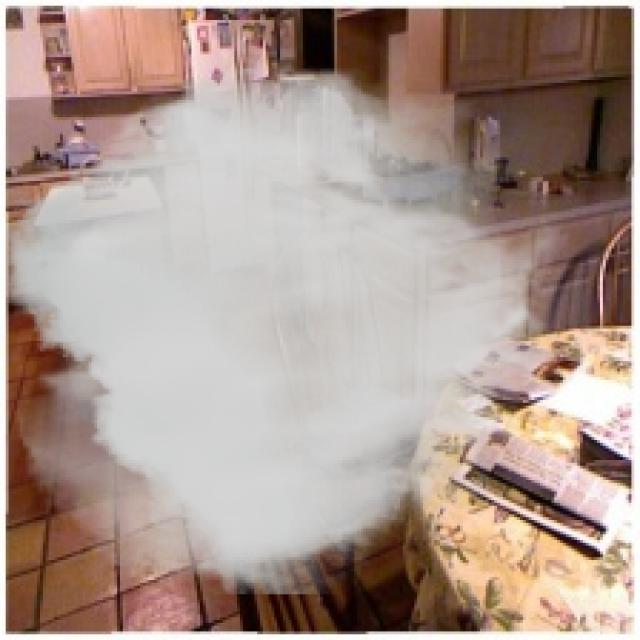smoke: (6, 60, 571, 594)
